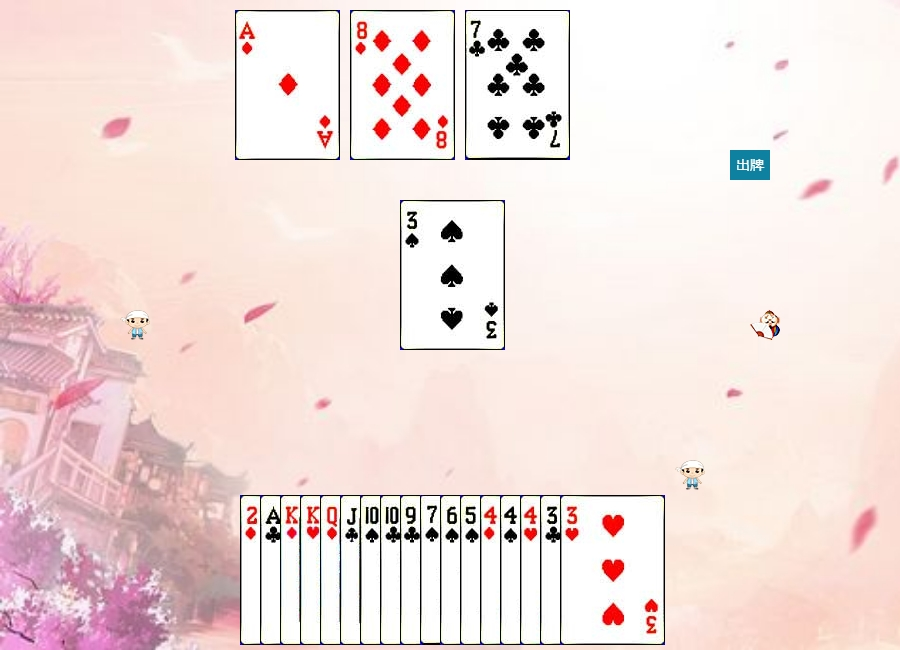10~2: (380, 495, 485, 645)
10~4: (360, 495, 465, 645)
11~2: (340, 495, 445, 645)
12~1: (320, 495, 425, 645)
13~1: (280, 495, 385, 645)
13~3: (300, 495, 405, 645)
14~1: (235, 10, 340, 160)
14~2: (260, 495, 365, 645)
15~1: (240, 495, 345, 645)
3~2: (540, 495, 645, 645)
3~3: (560, 495, 665, 645)
3~4: (400, 200, 505, 350)
4~1: (480, 495, 585, 645)
4~3: (520, 495, 625, 645)
4~4: (500, 495, 605, 645)
5~4: (460, 495, 565, 645)
6~4: (440, 495, 545, 645)
7~2: (465, 10, 570, 160)
7~4: (420, 495, 525, 645)
8~1: (350, 10, 455, 160)
9~2: (400, 495, 505, 645)
